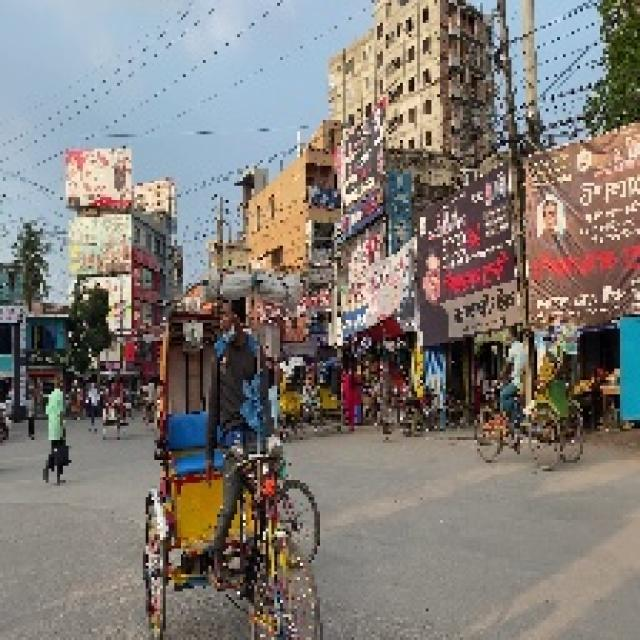rickshaw: (155, 309, 329, 622), (474, 315, 585, 462), (309, 354, 346, 442), (277, 354, 312, 424), (103, 373, 130, 437)
